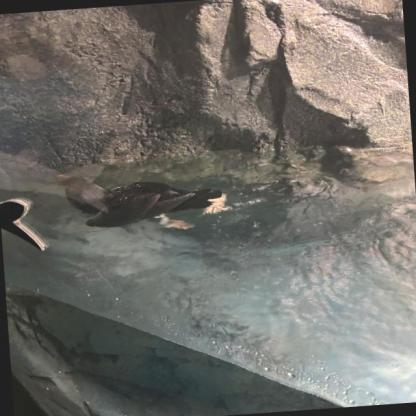puffin: (84, 169, 246, 239)
